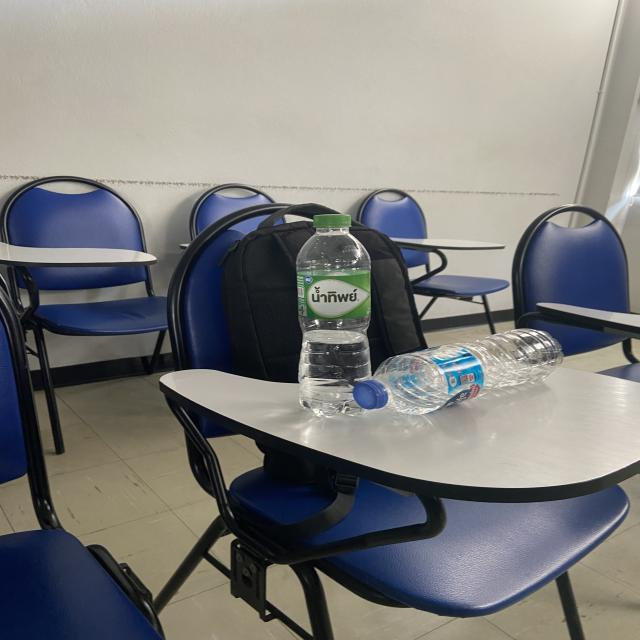bottle: (353, 327, 564, 417), (298, 212, 375, 420)
